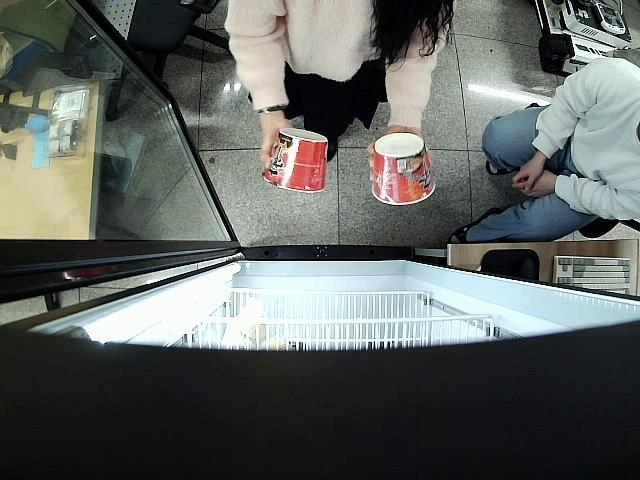01_ShinRamen_L: (370, 132, 436, 204), (261, 128, 330, 196)
